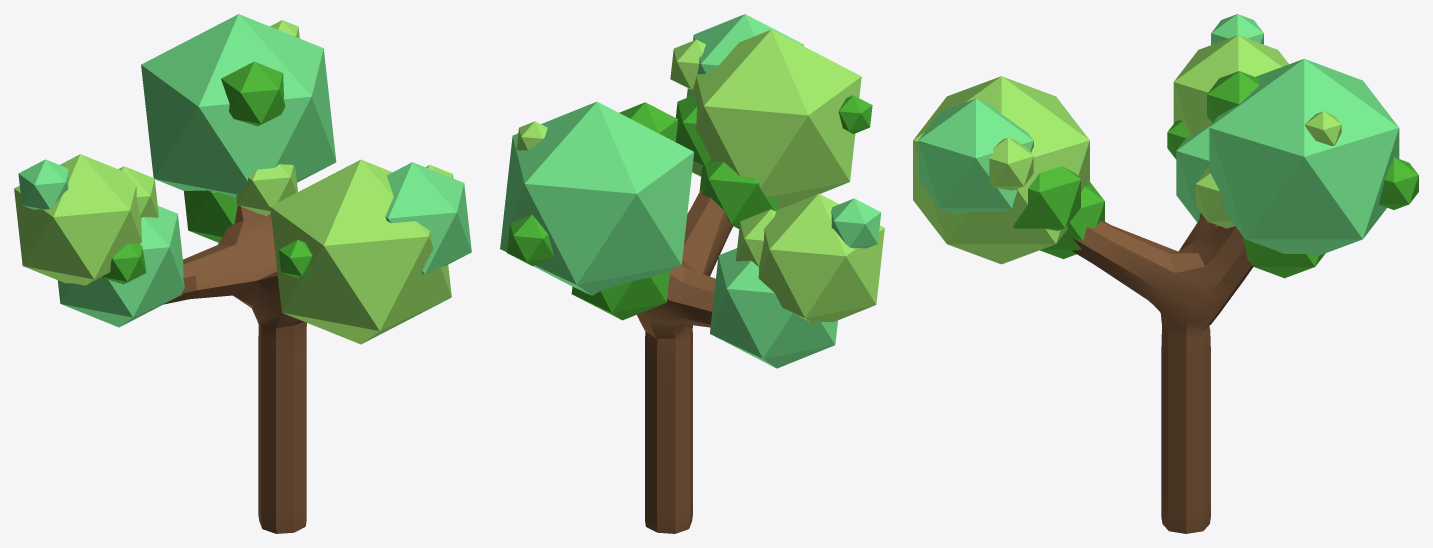
The model's file is tree-2.fbx.
3 renders of one model, left to right at view 1: azimuth 30°, elevation 25°; view 2: azimuth 150°, elevation 25°; view 3: azimuth 270°, elevation 25°, orthographic. The views are drawn at different scales.
Parts seen in each view (by area): view 1: Icosphere.001, Icosphere.005, Cube, Icosphere.010; view 2: Icosphere.001, Icosphere.005, Cube, Icosphere.010; view 3: Icosphere.001, Cube, Icosphere.005, Icosphere.010.
Boxes of the visible parts, bbox=[...] form: Icosphere.001: bbox=[18, 14, 471, 327]; Icosphere.005: bbox=[14, 20, 453, 344]; Cube: bbox=[163, 205, 306, 533]; Icosphere.010: bbox=[102, 61, 312, 284]; Icosphere.001: bbox=[500, 14, 881, 368]; Icosphere.005: bbox=[516, 29, 884, 323]; Cube: bbox=[637, 187, 733, 533]; Icosphere.010: bbox=[507, 95, 872, 320]; Icosphere.001: bbox=[918, 14, 1399, 255]; Cube: bbox=[1071, 213, 1253, 533]; Icosphere.005: bbox=[913, 35, 1341, 264]; Icosphere.010: bbox=[1013, 71, 1418, 278].
Size of the model in its own units: 792 by 1053 by 1020.
